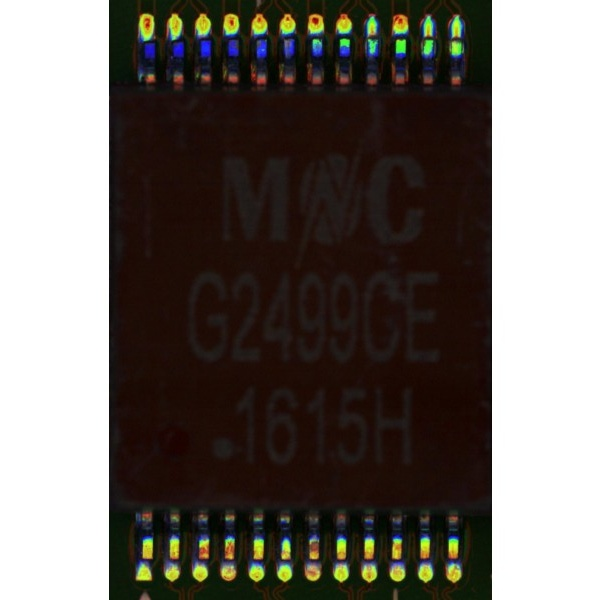Bad_podu: (423, 24, 431, 46), (368, 25, 375, 49), (452, 28, 459, 51)
